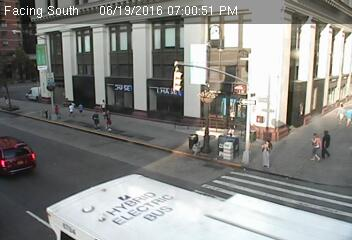neg: (221, 180, 248, 217), (106, 190, 132, 225), (155, 190, 178, 220), (82, 193, 101, 218)
pos: (256, 139, 278, 168), (332, 101, 350, 124), (75, 102, 87, 117)
